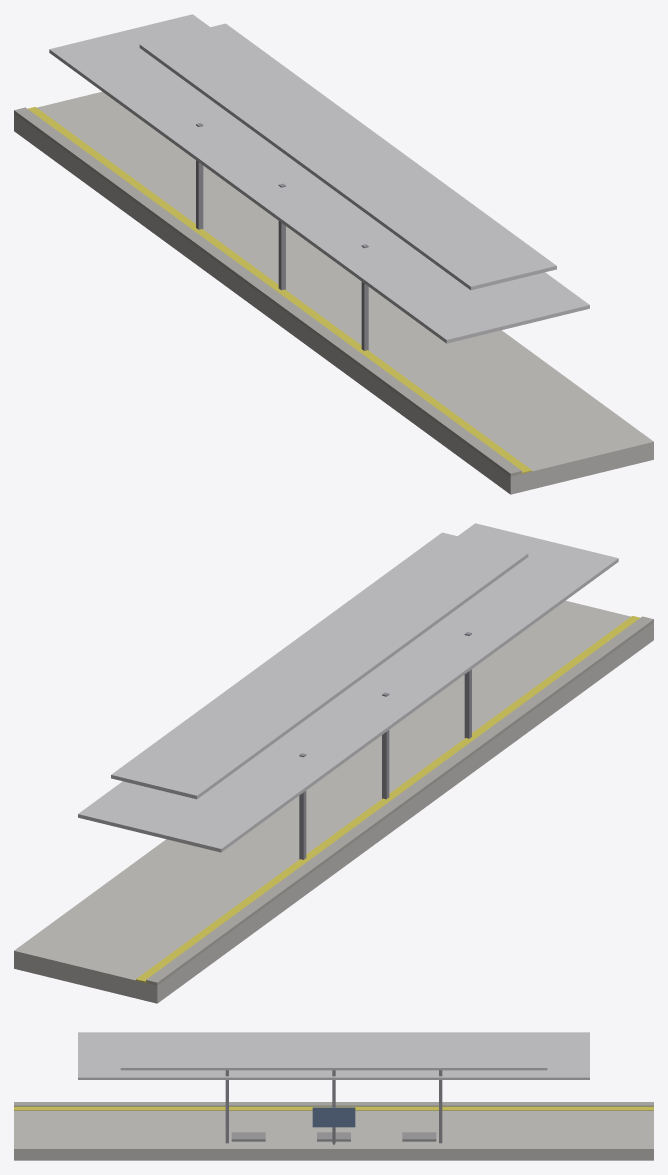
The model's file is station-modern.glb.
The picture shows the model from 3 angles, top to bottom: view 1: azimuth 30°, elevation 25°; view 2: azimuth 150°, elevation 25°; view 3: azimuth 270°, elevation 25°; orthographic projection. The views are drawn at different scales.
Visible parts, largest first — view 1: station-modern; view 2: station-modern; view 3: station-modern.
Part boxes in pixels (left/top/right/bottom): station-modern: left=14, top=14, right=653, bottom=494; station-modern: left=14, top=523, right=653, bottom=1003; station-modern: left=14, top=1032, right=653, bottom=1160.
Bounding box in the file's own units: 5.5 × 4.56 × 30.
